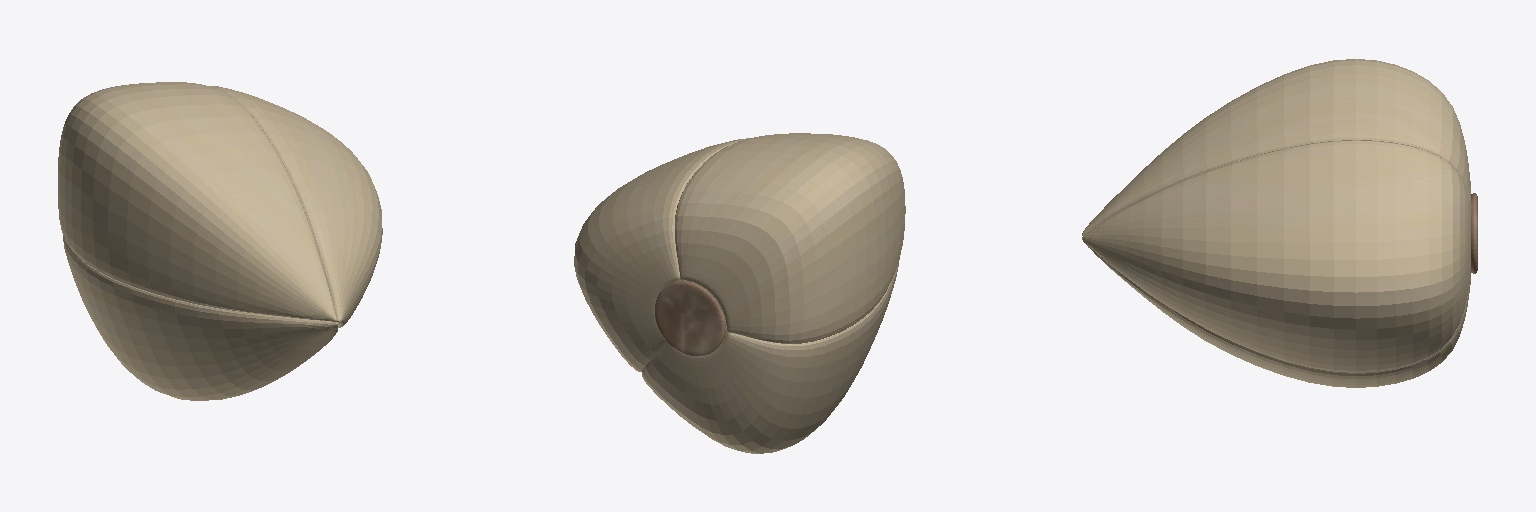
3 renders of one model, left to right at view 1: azimuth 30°, elevation 25°; view 2: azimuth 150°, elevation 25°; view 3: azimuth 270°, elevation 25°, orthographic.
Parts seen in each view (by area): view 1: GrainBuckwheat040; view 2: GrainBuckwheat040; view 3: GrainBuckwheat040.
Part boxes in pixels (x1,y1,x2,y2): GrainBuckwheat040: (58,82,382,400); GrainBuckwheat040: (574,133,905,453); GrainBuckwheat040: (1082,59,1477,387).
Size of the model in its own units: 0.0254 by 0.0262 by 0.0318.
Materials: 1 (1 with a texture image).